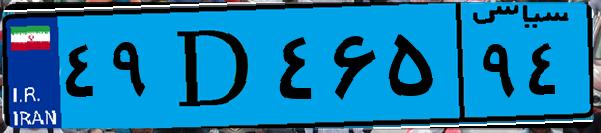4: (270, 28, 330, 110), (57, 26, 110, 100), (525, 38, 570, 115)
5: (385, 28, 445, 110)
6: (330, 28, 385, 110)
9: (475, 38, 525, 113), (110, 28, 158, 98)
D: (158, 12, 270, 120)
